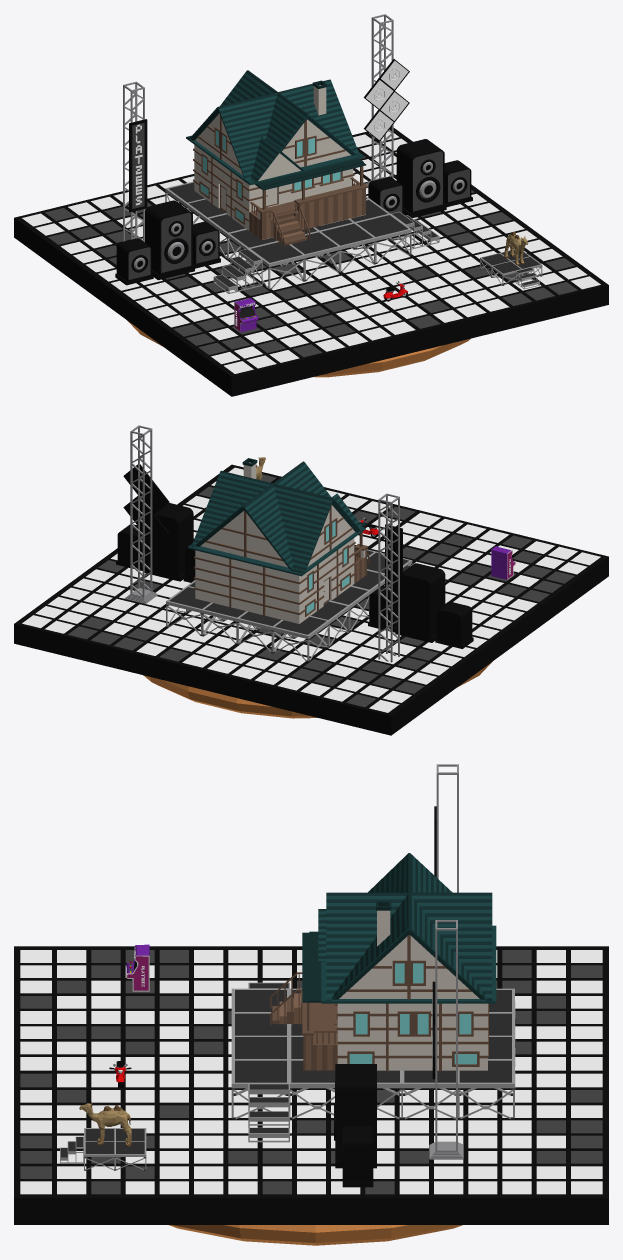
The picture shows the model from 3 angles, top to bottom: view 1: azimuth 30°, elevation 25°; view 2: azimuth 150°, elevation 25°; view 3: azimuth 270°, elevation 25°; orthographic projection. The views are drawn at different scales.
Parts seen in each view (by area): view 1: Cube.008, Cube.793, UNDERGROUND_PIZZA, OBJRANDOM_ARCADE; view 2: Cube.008, Cube.793, UNDERGROUND_PIZZA, OBJRANDOM_ARCADE; view 3: Cube.008, Cube.793, UNDERGROUND_PIZZA, ANIMAL_CAMELLO, OBJRANDOM_ARCADE.
Part boxes in pixels (left/top/right/bottom): Cube.008: left=14, top=14, right=608, bottom=396; Cube.793: left=186, top=70, right=368, bottom=246; UNDERGROUND_PIZZA: left=127, top=320, right=470, bottom=377; OBJRANDOM_ARCADE: left=234, top=297, right=258, bottom=332; Cube.008: left=14, top=425, right=608, bottom=735; Cube.793: left=187, top=458, right=369, bottom=623; UNDERGROUND_PIZZA: left=143, top=661, right=492, bottom=718; OBJRANDOM_ARCADE: left=491, top=546, right=515, bottom=579; Cube.008: left=14, top=764, right=608, bottom=1224; Cube.793: left=270, top=853, right=496, bottom=1071; UNDERGROUND_PIZZA: left=169, top=1225, right=462, bottom=1245; ANIMAL_CAMELLO: left=79, top=1102, right=131, bottom=1146; OBJRANDOM_ARCADE: left=126, top=944, right=149, bottom=991.
Size of the model in its own units: 4000 by 2184 by 4000.
43 materials, 2 textured.
